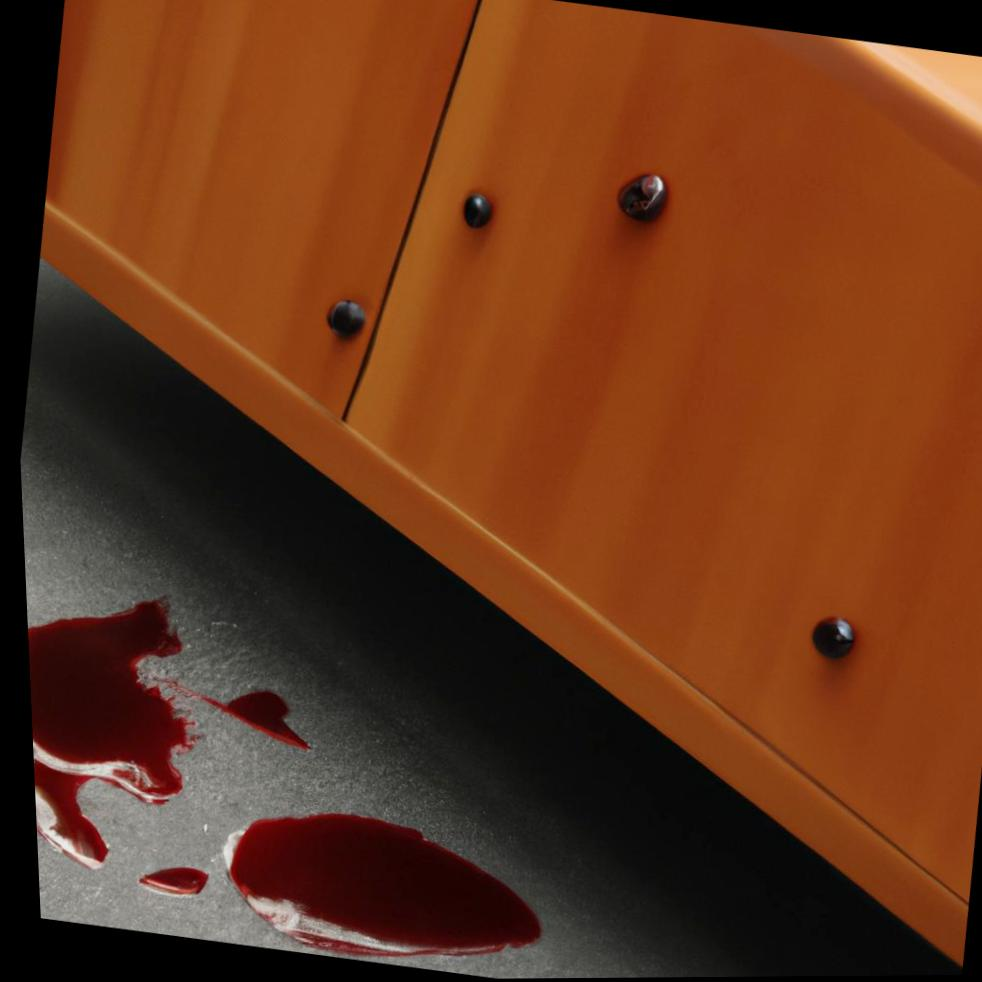Fire: (22, 594, 193, 869), (221, 812, 532, 957), (192, 690, 303, 750), (129, 866, 200, 894)
